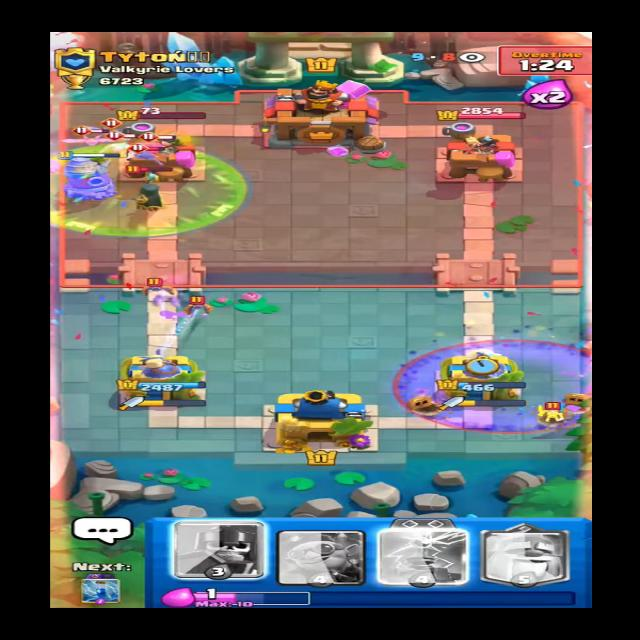bats: (142, 279, 178, 295), (185, 298, 212, 314)
evo-bats: (119, 142, 164, 169), (82, 132, 115, 148)
graveyard: (393, 336, 604, 436)
night-witch: (118, 172, 176, 218)
skeleton: (535, 401, 573, 423)
